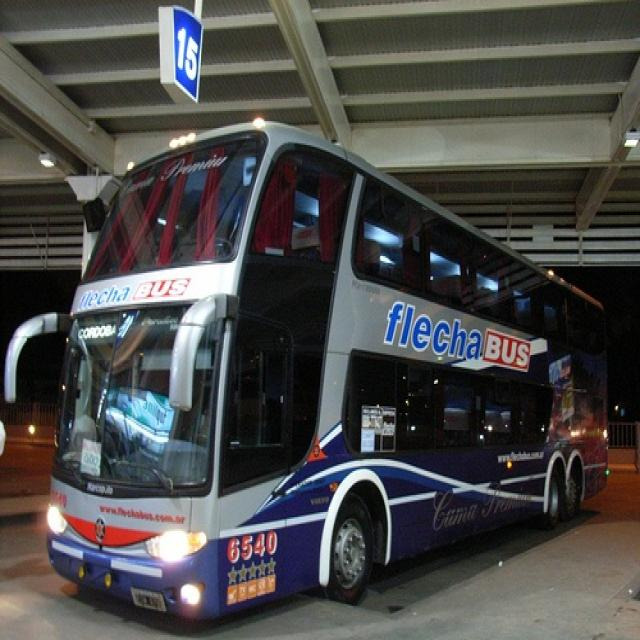bus: (8, 119, 612, 622)
